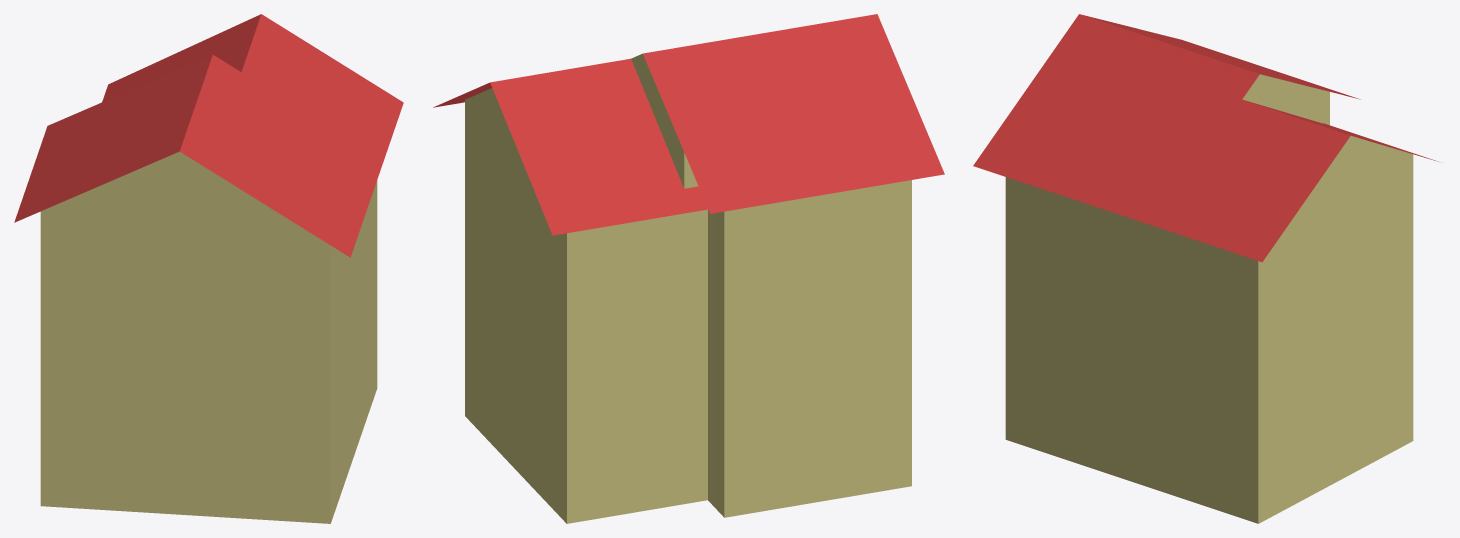
3 renders of one model, left to right at view 1: azimuth 30°, elevation 25°; view 2: azimuth 150°, elevation 25°; view 3: azimuth 270°, elevation 25°, orthographic. The views are drawn at different scales.
Parts seen in each view (by area): view 1: group_5, group_3, group_4, group_7, group_8; view 2: group_5, group_9, group_3, group_7, group_8, group_4; view 3: group_5, group_3, group_9, group_4.
Part boxes in pixels (bbox=[...]): group_5: bbox=[40, 151, 377, 523]; group_3: bbox=[14, 14, 403, 233]; group_4: bbox=[47, 102, 403, 257]; group_7: bbox=[109, 14, 261, 92]; group_8: bbox=[102, 16, 260, 102]; group_5: bbox=[465, 53, 911, 517]; group_9: bbox=[513, 141, 684, 523]; group_3: bbox=[435, 14, 944, 213]; group_7: bbox=[490, 58, 683, 235]; group_8: bbox=[491, 78, 708, 235]; group_4: bbox=[433, 14, 877, 213]; group_5: bbox=[1005, 74, 1332, 523]; group_3: bbox=[1006, 14, 1357, 261]; group_9: bbox=[1332, 136, 1413, 483]; group_4: bbox=[973, 14, 1359, 261].
Size of the model in its own units: 15.94 by 15.29 by 13.21.
